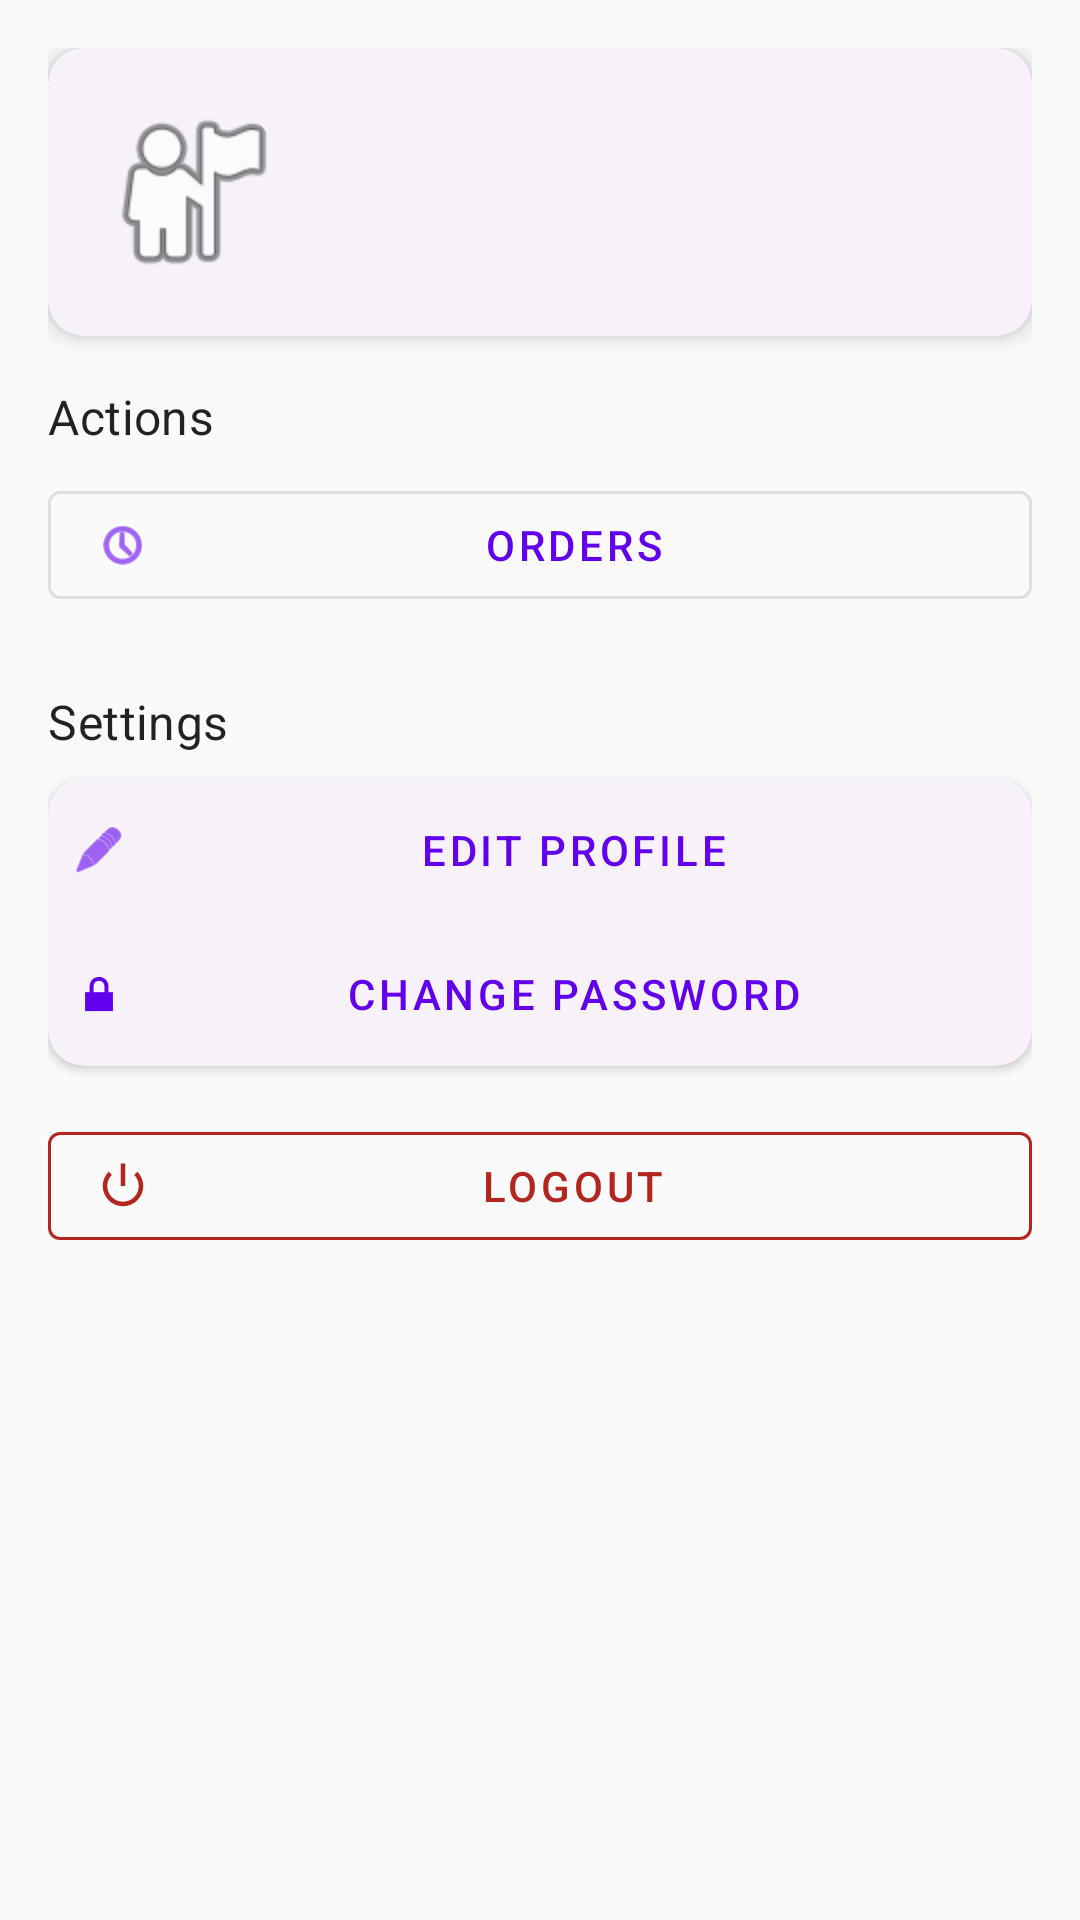

Locate icon controls on the screen. Image size 1080px×1920px, boxes as Rect(x1, y1, x2, y2).
myplaces: Rect(122, 120, 266, 264)
